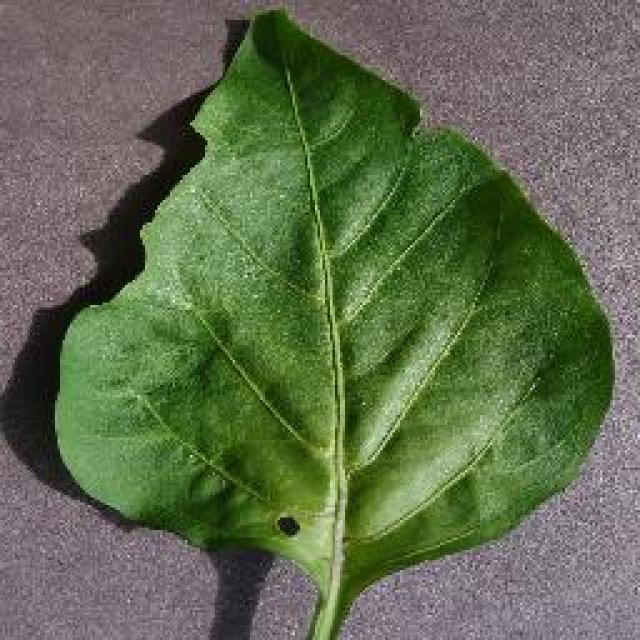Chilli_Healthy: (50, 5, 615, 637)
